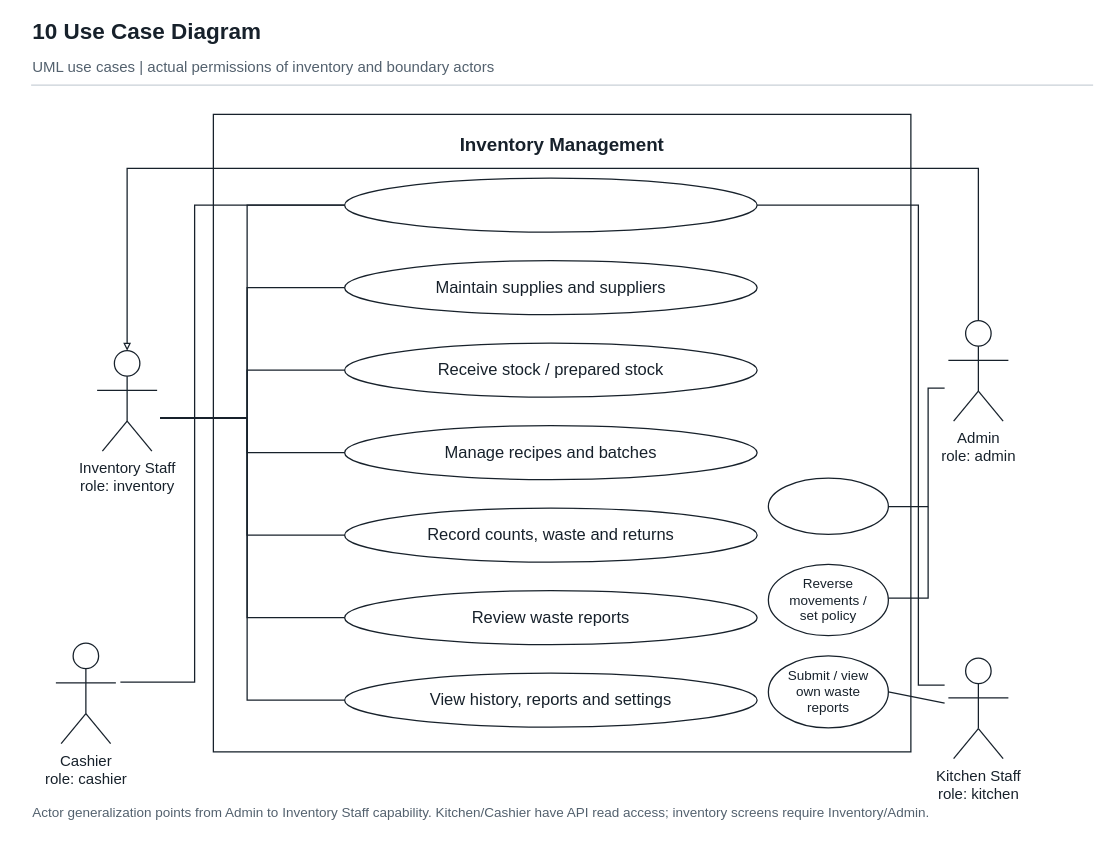
Some shapes in this 1107 by 844 pixel diagram are drawn without their labels. The centre of each missing label's shape, as x and y in pixels:
"Approve counts" belongs at (828,506).
"View stock and availability" belongs at (550,204).
